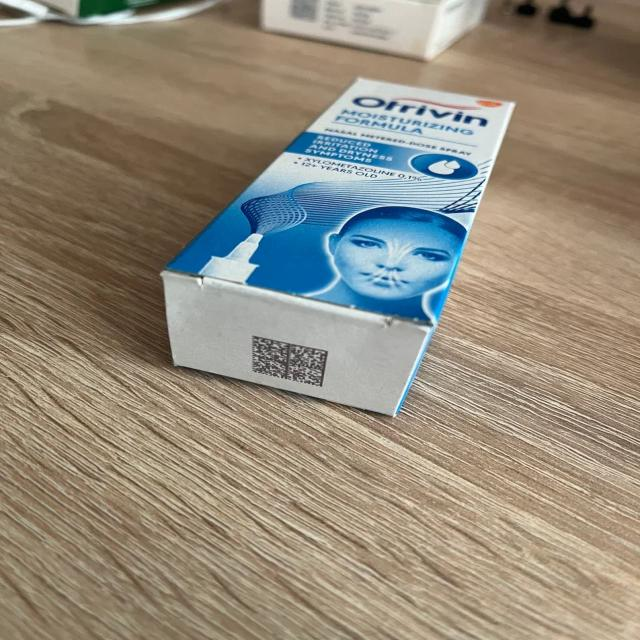datamatrix: (252, 334, 332, 390)
